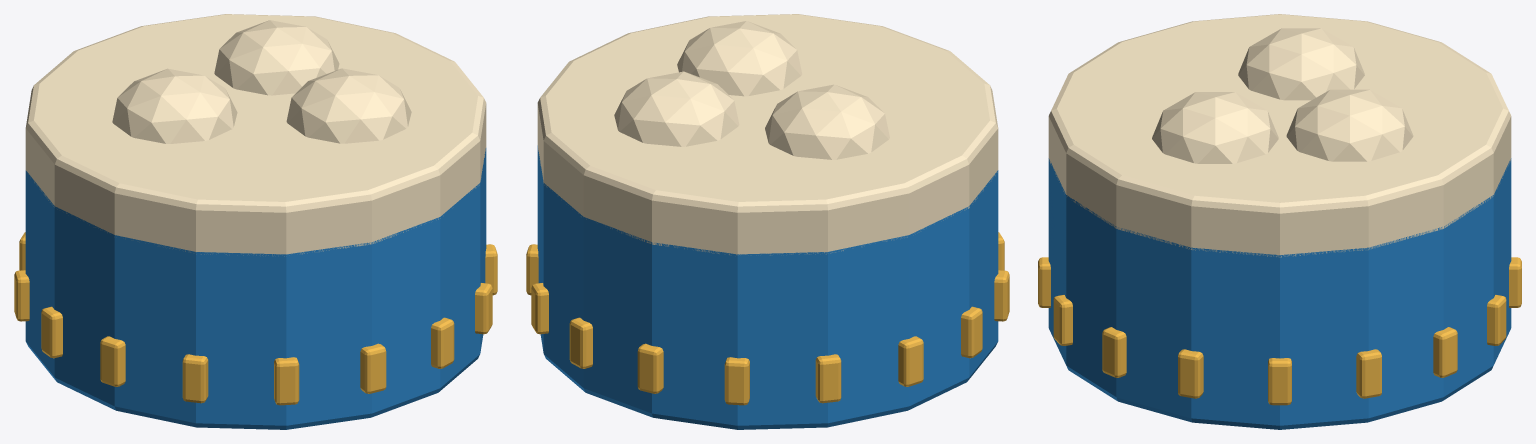
The model's file is ram_cake_baked.glb.
3 views of the same model, side by side, from view 1: azimuth 30°, elevation 25°; view 2: azimuth 150°, elevation 25°; view 3: azimuth 270°, elevation 25° (orthographic).
Visible parts, largest first — view 1: Frosting, Cake, Contact; view 2: Frosting, Cake, Contact; view 3: Frosting, Cake, Contact.
Part boxes in pixels (x1=…): Frosting: x1=25, y1=14, x2=486, y2=256; Cake: x1=25, y1=148, x2=486, y2=429; Contact: x1=14, y1=232, x2=497, y2=405; Frosting: x1=537, y1=14, x2=998, y2=255; Cake: x1=537, y1=145, x2=998, y2=429; Contact: x1=526, y1=232, x2=1009, y2=405; Frosting: x1=1048, y1=14, x2=1511, y2=257; Cake: x1=1048, y1=158, x2=1511, y2=429; Contact: x1=1038, y1=257, x2=1521, y2=405.
Size of the model in its own units: 0.899 by 0.549 by 0.899.
